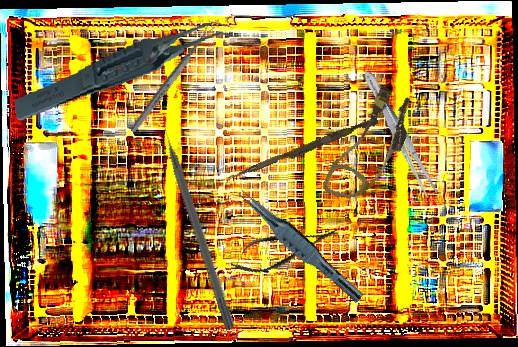Cannula: (320, 79, 422, 213)
Dressing Forceps: (358, 67, 441, 200)
Micro Scissor: (226, 217, 343, 281)
Pusher: (155, 112, 238, 331), (231, 113, 379, 185)
Surgical Spoon: (128, 21, 217, 135)
Tissue Forceps: (7, 19, 243, 123), (230, 184, 371, 305)
